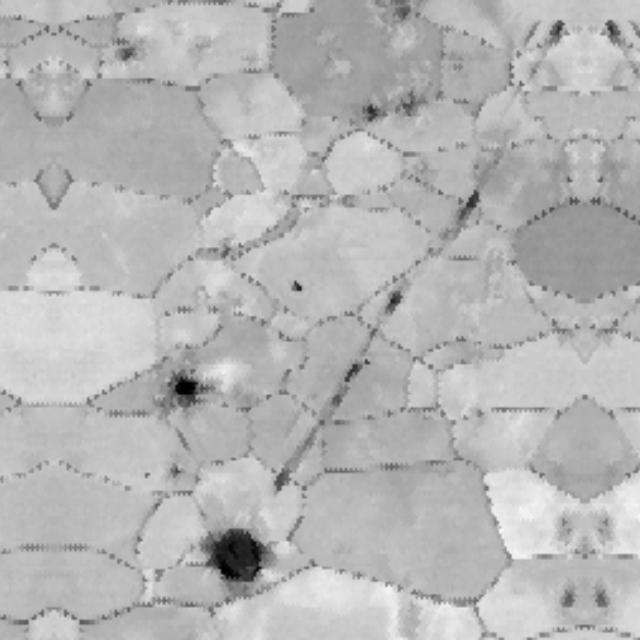good_void: (203, 528, 278, 591), (325, 346, 374, 407), (169, 363, 215, 411), (536, 10, 576, 50), (596, 10, 636, 50), (448, 189, 483, 231), (377, 286, 414, 322), (259, 466, 288, 502), (552, 582, 585, 613), (587, 582, 620, 613), (394, 93, 422, 124), (207, 236, 237, 261), (555, 513, 576, 548), (596, 513, 617, 548), (108, 39, 136, 65), (359, 100, 387, 124), (285, 280, 311, 295), (167, 462, 183, 482), (135, 469, 151, 482)
